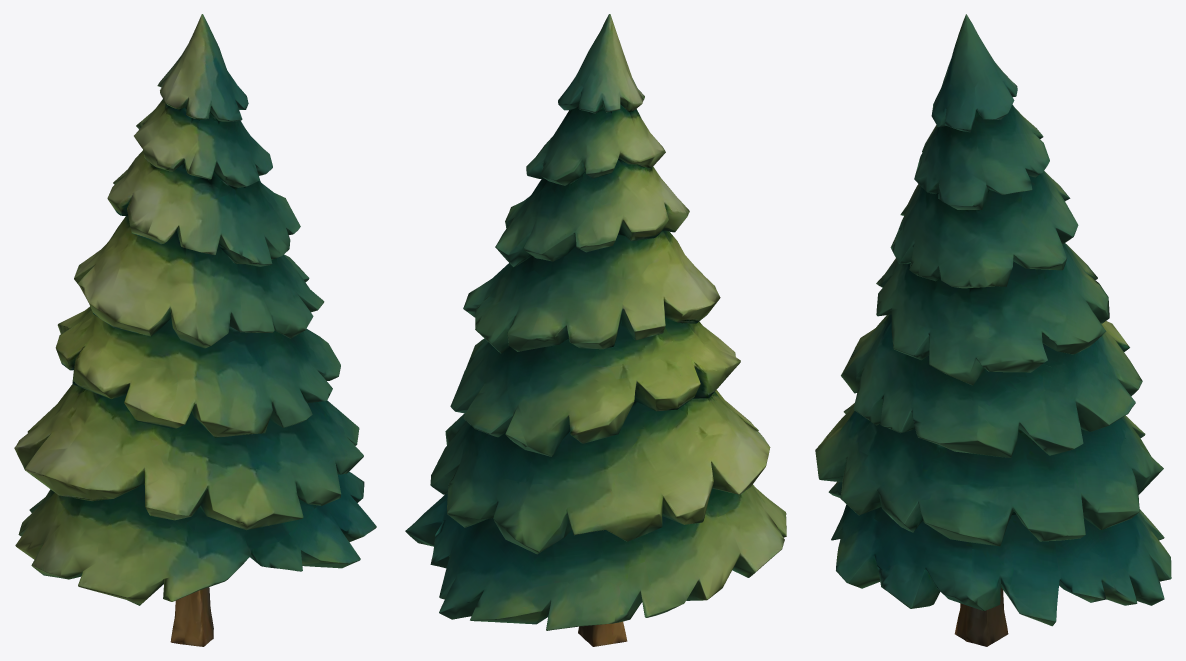
The model's file is nat_tree_pine_v1.glb.
3 views of the same model, side by side, from view 1: azimuth 30°, elevation 25°; view 2: azimuth 150°, elevation 25°; view 3: azimuth 270°, elevation 25° (orthographic).
Parts seen in each view (by area): view 1: tripo_node_a291dbbb-4de1-442b-be24-17941ea1254c; view 2: tripo_node_a291dbbb-4de1-442b-be24-17941ea1254c; view 3: tripo_node_a291dbbb-4de1-442b-be24-17941ea1254c.
Boxes of the visible parts, <box> form: tripo_node_a291dbbb-4de1-442b-be24-17941ea1254c: <box>14,14,376,646</box>; tripo_node_a291dbbb-4de1-442b-be24-17941ea1254c: <box>405,14,786,646</box>; tripo_node_a291dbbb-4de1-442b-be24-17941ea1254c: <box>815,14,1171,646</box>.
Size of the model in its own units: 0.5409 by 0.9803 by 0.5089.
Materials: 1 (1 with a texture image).
